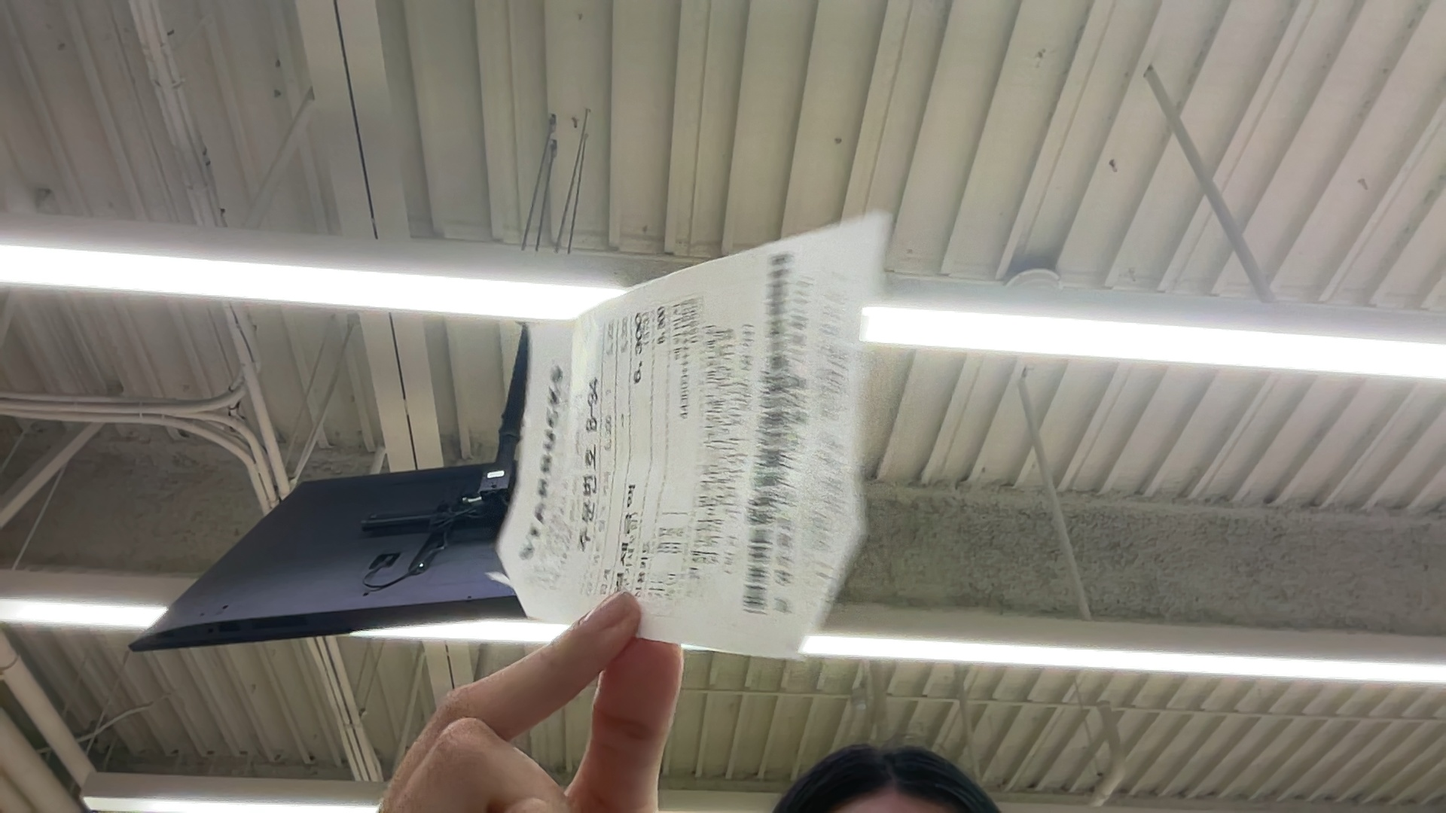Paper: (3, 403, 274, 608)
